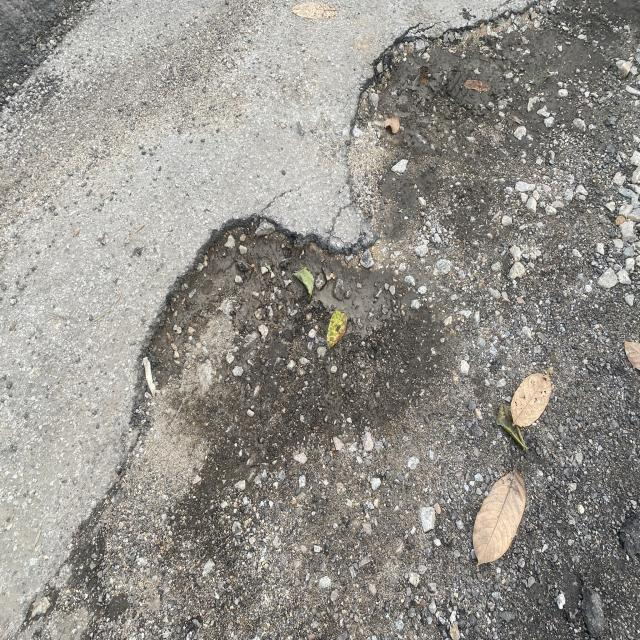pothole: (146, 202, 382, 482), (331, 3, 466, 214)
